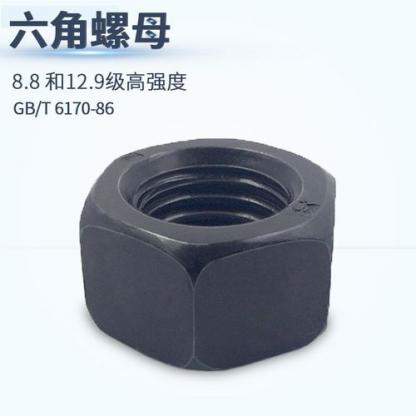FOD: (77, 136, 341, 374)
